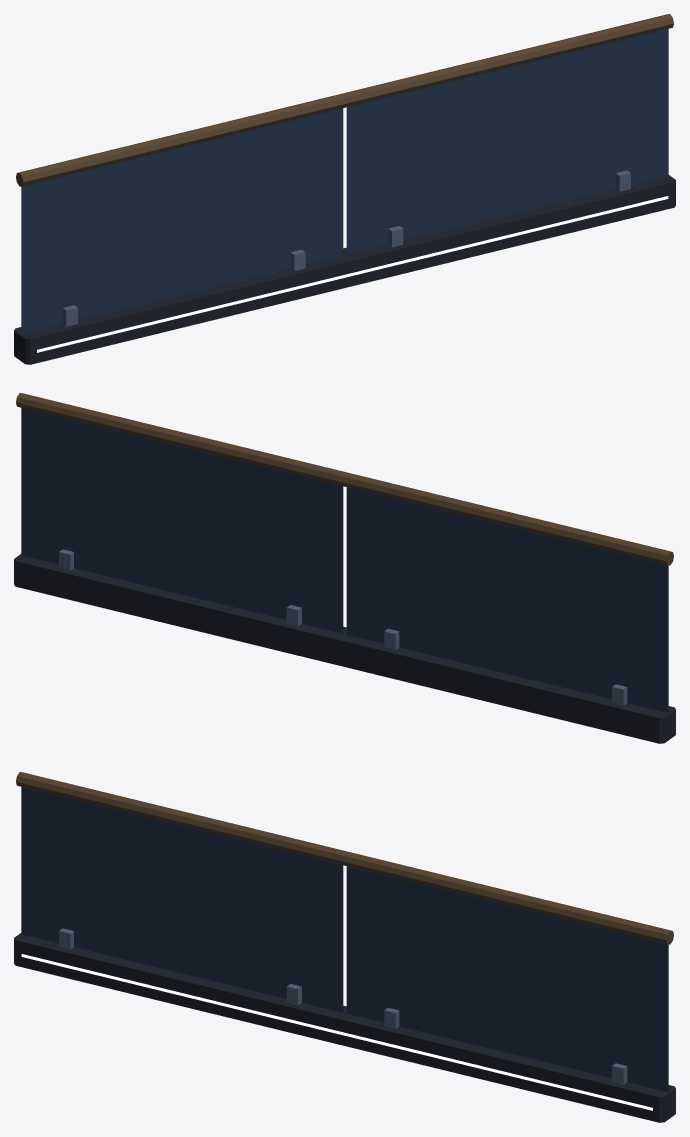
File: res_glass_balustrade.glb
The picture shows the model from 3 angles, top to bottom: view 1: azimuth 30°, elevation 25°; view 2: azimuth 150°, elevation 25°; view 3: azimuth 330°, elevation 25°; orthographic projection.
Visible parts, largest first — view 1: glass_panel, base_channel, walnut_handrail, recessed_led, glass_clamp; view 2: glass_panel, base_channel, walnut_handrail, glass_clamp; view 3: glass_panel, base_channel, walnut_handrail, recessed_led, glass_clamp.
Part boxes in pixels (x1,y1,x2,y2): glass_panel: [21, 29, 668, 334]; base_channel: [14, 175, 675, 364]; walnut_handrail: [16, 14, 673, 186]; recessed_led: [37, 196, 668, 352]; glass_clamp: [62, 170, 630, 326]; glass_panel: [21, 408, 668, 713]; base_channel: [14, 554, 675, 743]; walnut_handrail: [16, 393, 673, 565]; glass_clamp: [59, 549, 627, 705]; glass_panel: [21, 787, 668, 1092]; base_channel: [14, 933, 675, 1122]; walnut_handrail: [16, 772, 673, 944]; recessed_led: [21, 954, 652, 1110]; glass_clamp: [59, 928, 627, 1084].
Bounding box in the file's own units: 4 × 1.1 × 0.16.
